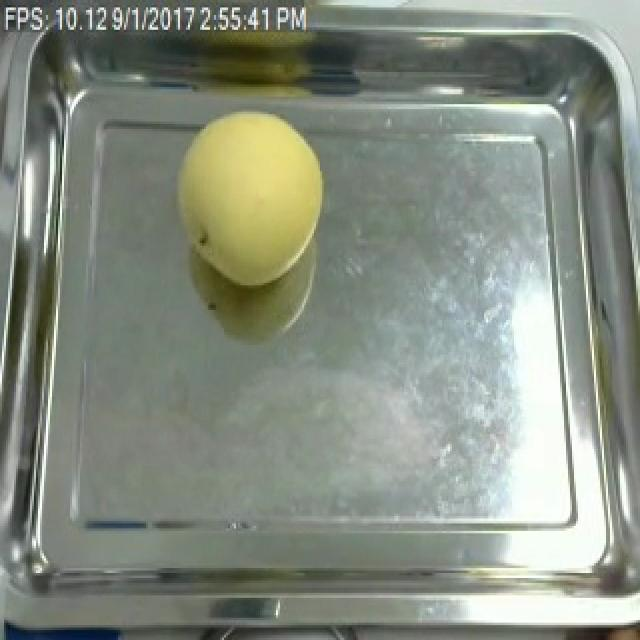Fruit: (168, 99, 334, 293)
